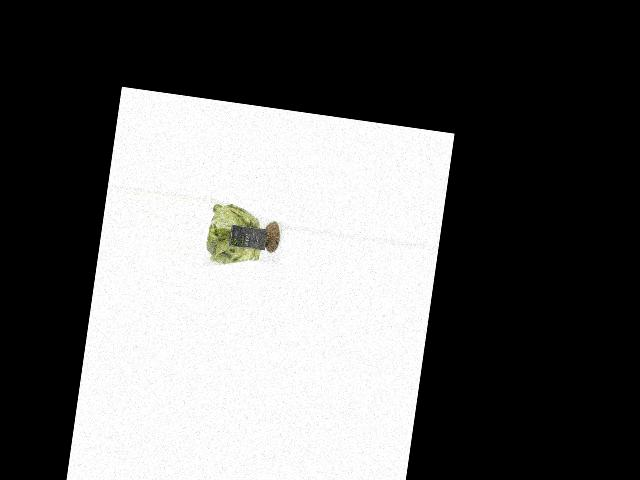lettuce: (202, 199, 288, 274)
